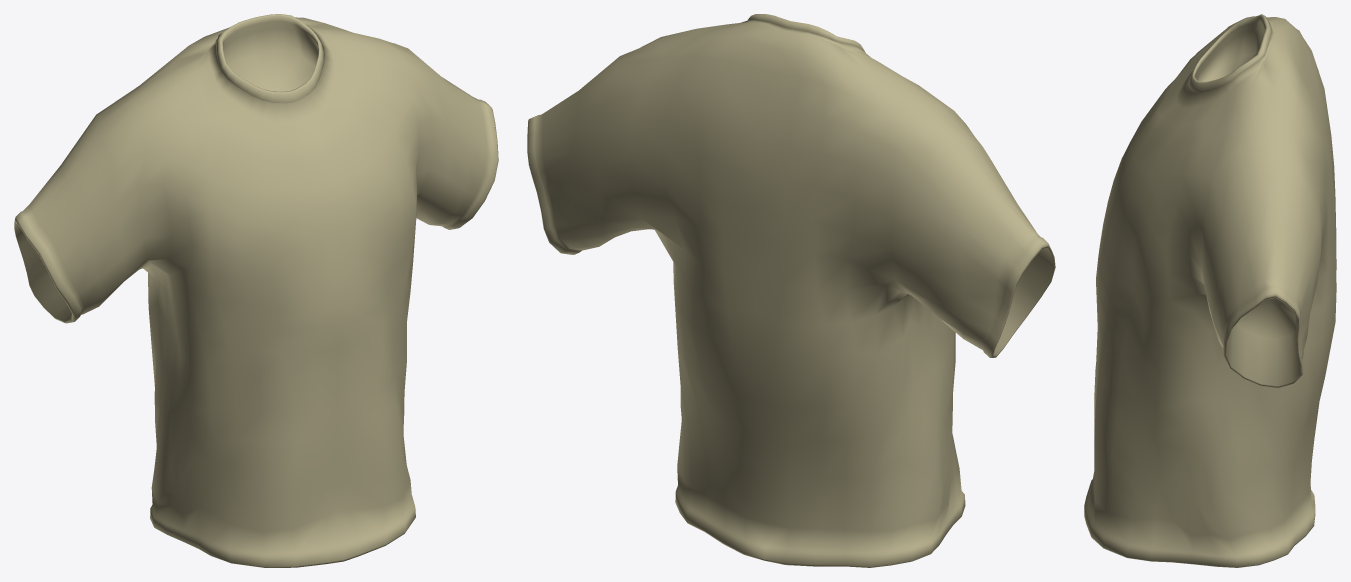
Rendered from tee.glb.
3 renders of one model, left to right at view 1: azimuth 30°, elevation 25°; view 2: azimuth 150°, elevation 25°; view 3: azimuth 270°, elevation 25°, orthographic. The views are drawn at different scales.
Visible parts, largest first — view 1: Object_16_n3d; view 2: Object_16_n3d; view 3: Object_16_n3d.
Part boxes in pixels (bbox=[...]): Object_16_n3d: bbox=[14, 14, 498, 567]; Object_16_n3d: bbox=[527, 14, 1055, 567]; Object_16_n3d: bbox=[1084, 14, 1336, 567].
Bounding box in the file's own units: 38.29 × 36.95 × 17.21.
